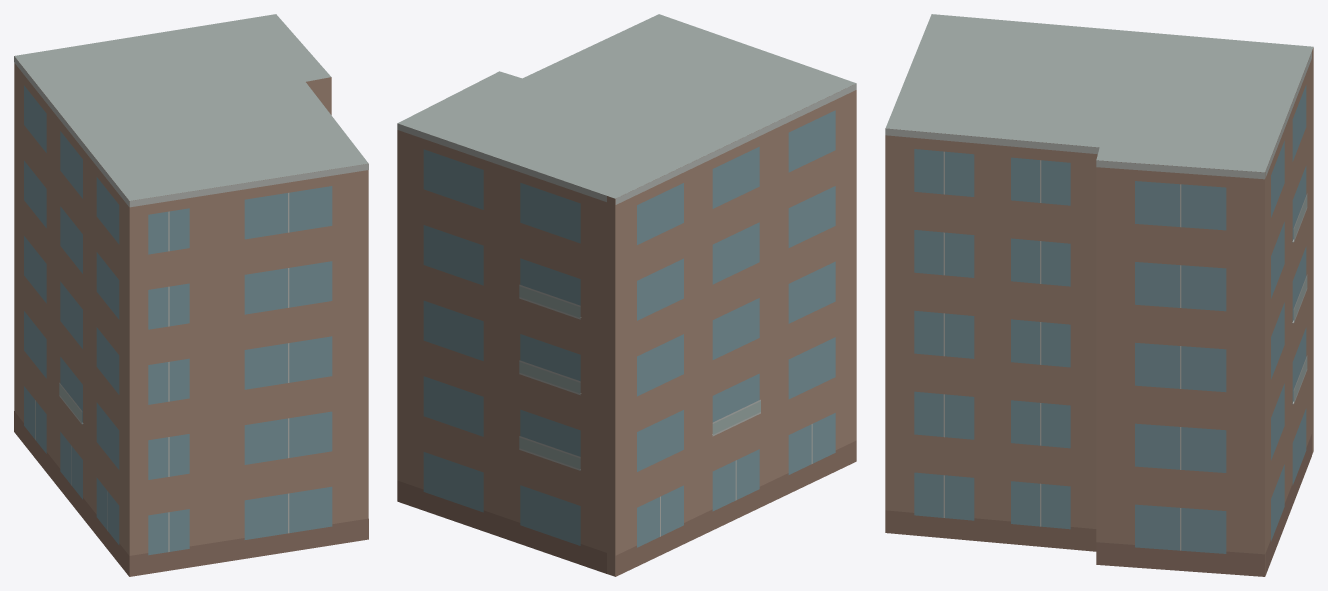
The model's file is survey-upis-32741754.glb.
3 views of the same model, side by side, from view 1: azimuth 30°, elevation 25°; view 2: azimuth 150°, elevation 25°; view 3: azimuth 270°, elevation 25° (orthographic). The views are drawn at different scales.
Visible parts, largest first — view 1: survey-upis-32741754.tmp; view 2: survey-upis-32741754.tmp; view 3: survey-upis-32741754.tmp.
Part boxes in pixels (x1,y1,x2,y2): survey-upis-32741754.tmp: [14, 14, 368, 576]; survey-upis-32741754.tmp: [397, 14, 856, 576]; survey-upis-32741754.tmp: [885, 14, 1313, 576].
Size of the model in its own units: 12.02 by 14.3 by 13.73.
